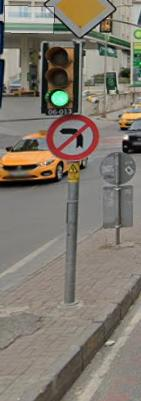greenlight: (42, 42, 78, 115)
leftturnsareforbidden: (44, 114, 100, 160)
